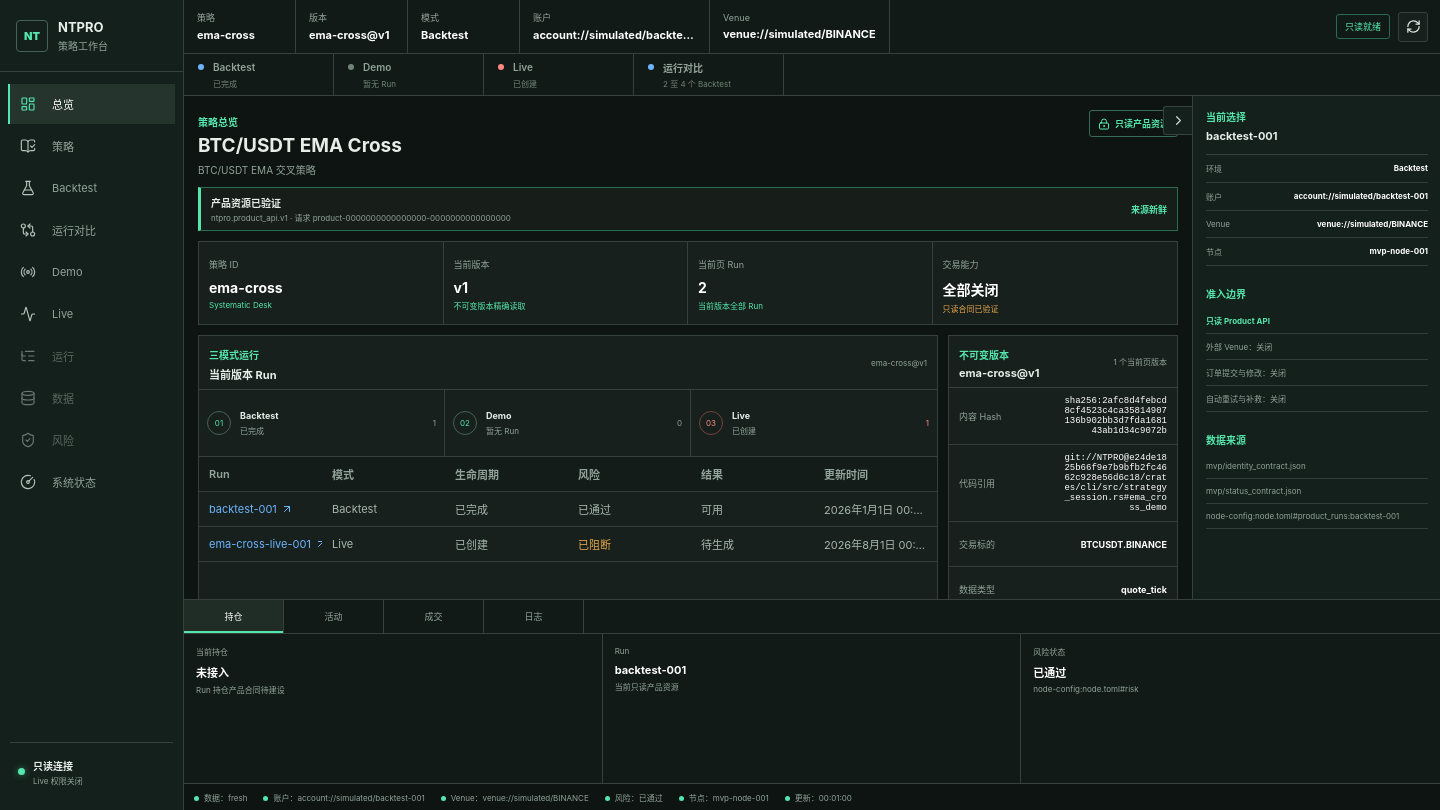
Test: strategy workbench product slice › keeps cached product context cleared when refresh fails
The image size is (1440, 810).
Expected: the text "产品资源已验证" is shown, [211, 197, 281, 209]
Click the button named "刷新产品与系统状态".
click(1413, 26)  # box [1398, 12, 1428, 42]
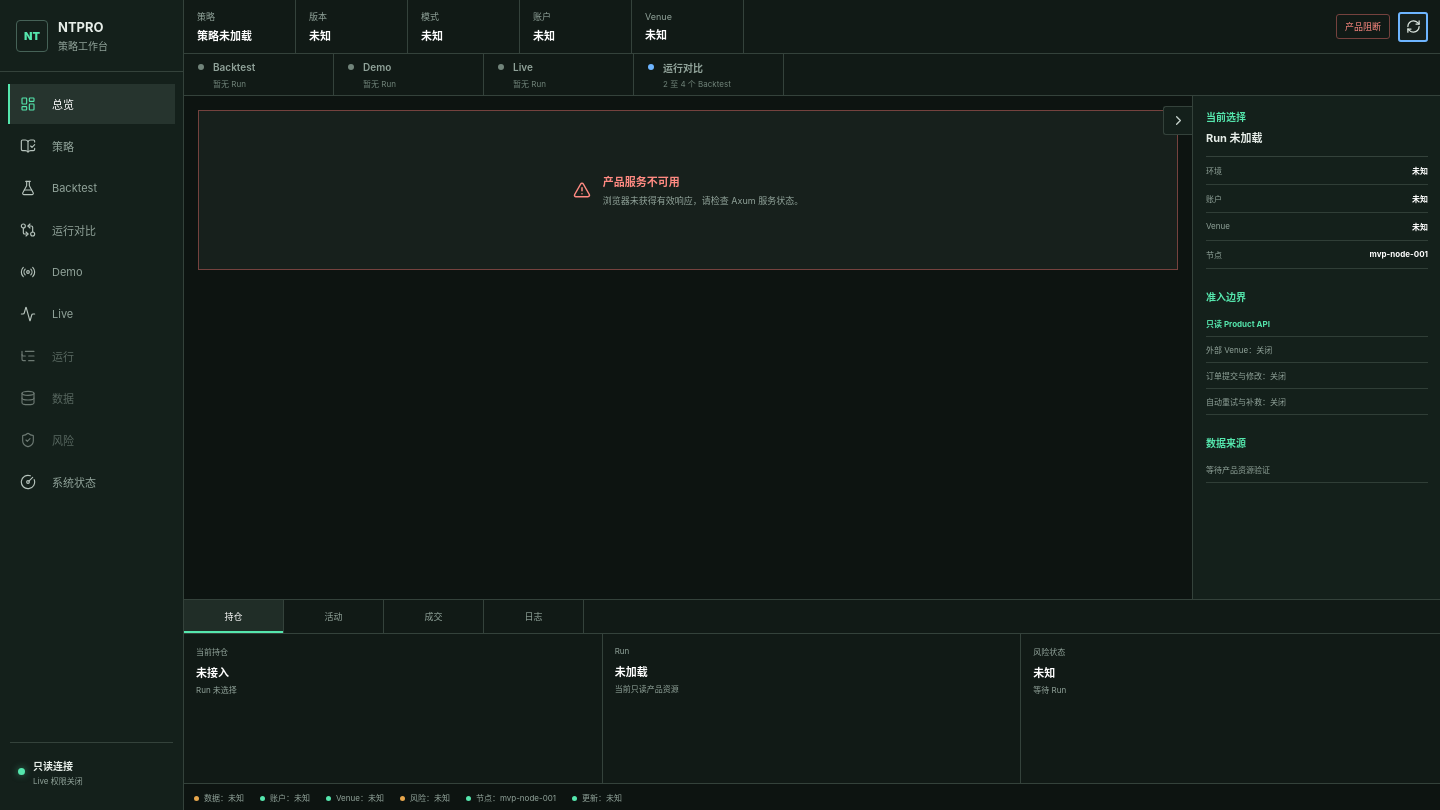
Result: the text "产品服务不可用" is shown at [603, 175, 680, 189]
Result: the text with test id "strategy-name" reads "策略未加载" at [197, 29, 252, 43]
Result: the text "产品阻断" is shown at [1336, 14, 1390, 39]
